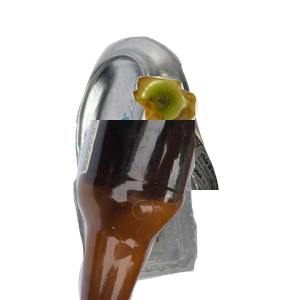glass: (60, 120, 300, 300)
metal: (73, 34, 285, 214)
plastic: (71, 154, 300, 300)
trash: (130, 74, 300, 199)
